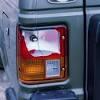Taillight-Damage: (10, 14, 75, 89)
